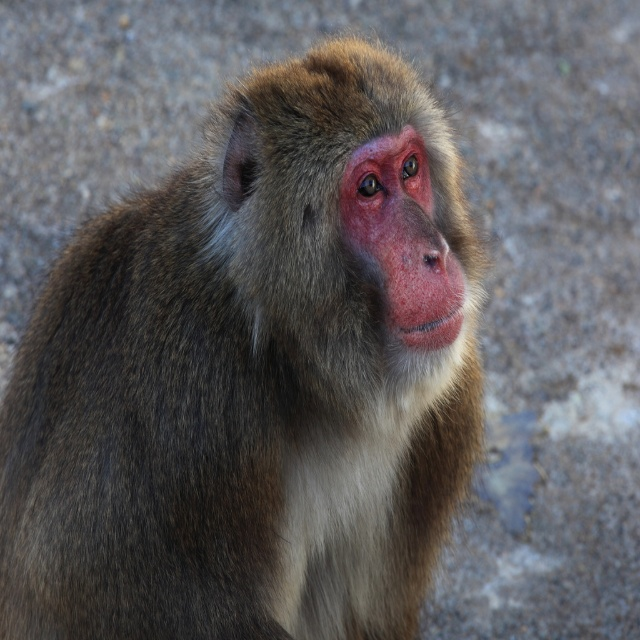Monkey: (0, 25, 496, 640)
